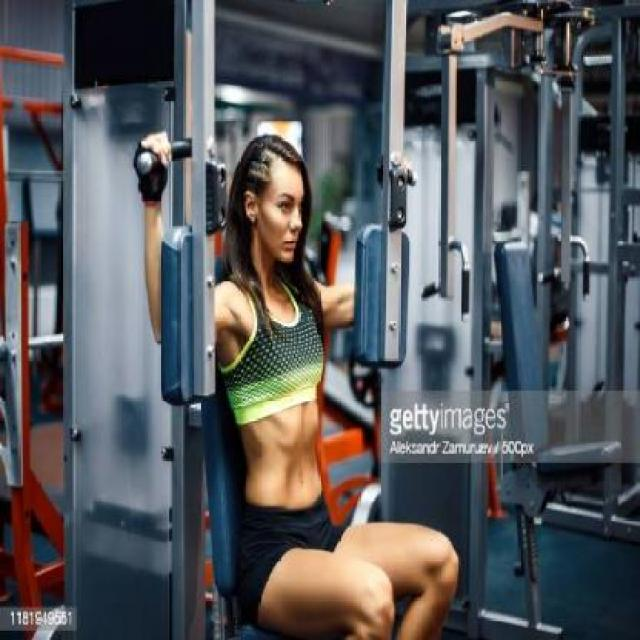chest fly machine: (134, 1, 468, 640)
